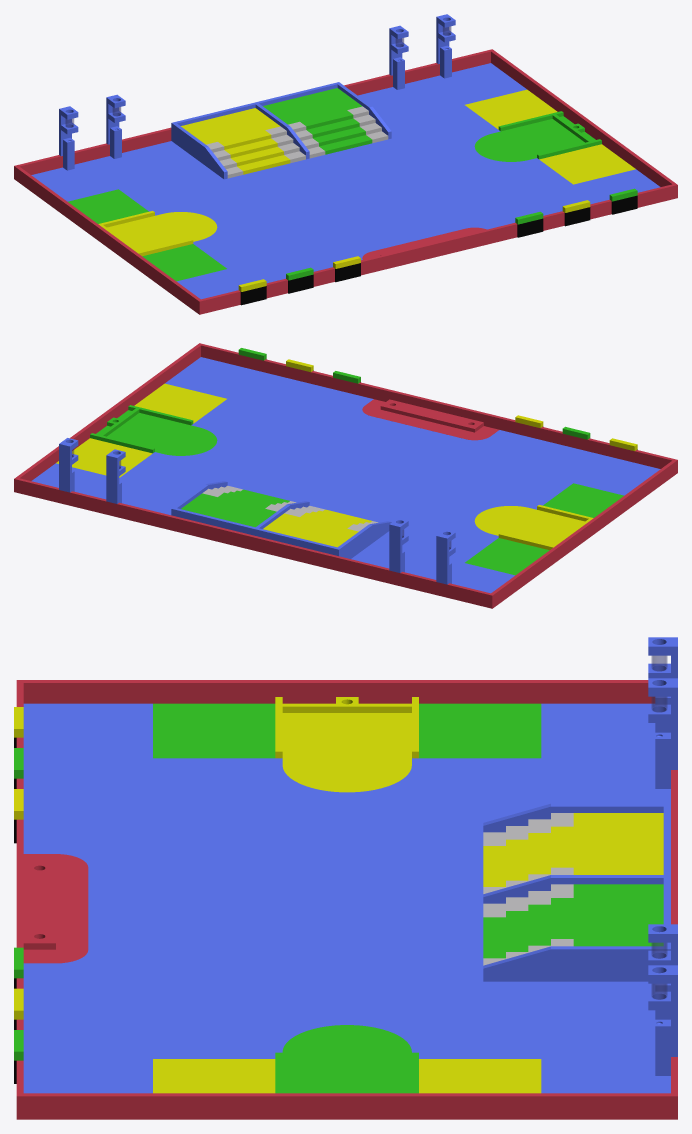
File: plateau_mieux.dae
3 renders of one model, top to bottom at view 1: azimuth 30°, elevation 25°; view 2: azimuth 150°, elevation 25°; view 3: azimuth 270°, elevation 25°, orthographic. The views are drawn at different scales.
Visible parts, largest first — view 1: plateau_003; view 2: plateau_003; view 3: plateau_003.
Part boxes in pixels (x1,y1,x2,y2): plateau_003: [14, 14, 677, 314]; plateau_003: [14, 343, 677, 608]; plateau_003: [14, 637, 677, 1119].
Size of the model in its own units: 3.04 by 2.05 by 0.36.
